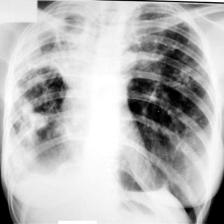tuberculosis: (5, 0, 223, 201)
